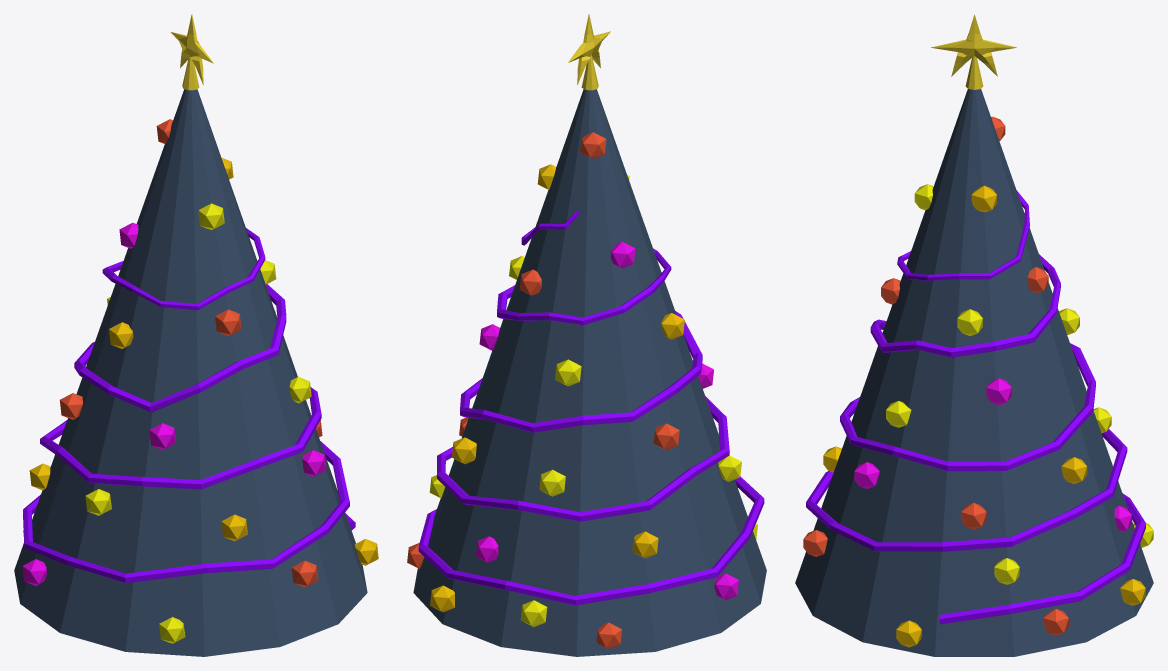
Rendered from Tree_1.fbx.
3 views of the same model, side by side, from view 1: azimuth 30°, elevation 25°; view 2: azimuth 150°, elevation 25°; view 3: azimuth 270°, elevation 25° (orthographic).
Parts seen in each view (by area): view 1: Cylinder; view 2: Cylinder; view 3: Cylinder.
Part boxes in pixels (left/top/right/bottom): Cylinder: left=14, top=14, right=378, bottom=656; Cylinder: left=407, top=14, right=766, bottom=656; Cylinder: left=795, top=14, right=1153, bottom=656.
Size of the model in its own units: 313 by 546 by 312.
